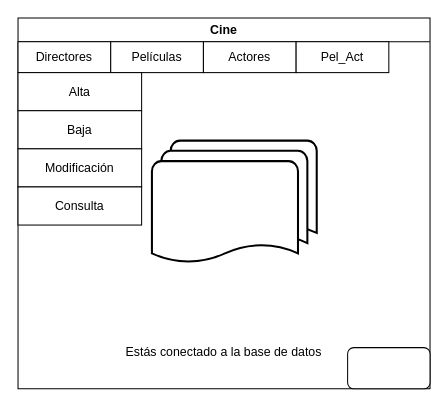
Some shapes in this 448 by 407 pixel diagram are drawn without their labels. Here are the shapes that lost their labels. From the top down, the box of each, then its label:
(150, 139, 317, 265): Base de Datos
(347, 347, 430, 389): Log Out
